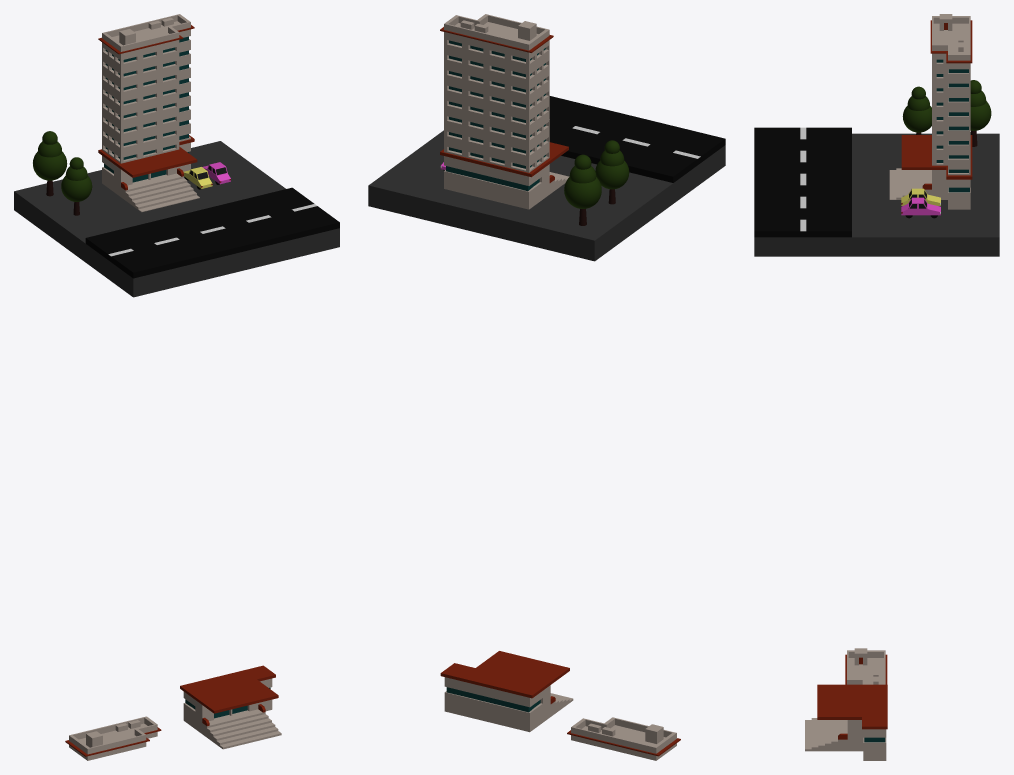
3 views of the same model, side by side, from view 1: azimuth 30°, elevation 25°; view 2: azimuth 150°, elevation 25°; view 3: azimuth 270°, elevation 25° (orthographic). The views are drawn at different scales.
Parts seen in each view (by area): view 1: Floor_큐브.015, Building_큐브.003, Building_floor_큐브.012, Building_floor_upper_큐브.013, tree_실린더; view 2: Floor_큐브.015, Building_큐브.003, Building_floor_큐브.012, Building_floor_upper_큐브.013, tree_실린더; view 3: Floor_큐브.015, Building_큐브.003, Building_floor_큐브.012, tree_실린더, Building_floor_upper_큐브.013, car.001_큐브.018.
Boxes of the visible parts, x1,y1,x2,y2 form: Floor_큐브.015: (14,141,339,297); Building_큐브.003: (98,14,199,212); Building_floor_큐브.012: (180,665,281,749); Building_floor_upper_큐브.013: (65,716,161,760); tree_실린더: (33,131,92,215); Floor_큐브.015: (368,96,725,261); Building_큐브.003: (440,14,569,209); Building_floor_큐브.012: (440,651,573,732); Building_floor_upper_큐브.013: (567,717,680,760); tree_실린더: (564,140,629,225); Floor_큐브.015: (754,127,999,256); Building_큐브.003: (889,14,972,209); Building_floor_큐브.012: (805,684,887,760); tree_실린더: (902,80,991,146); Building_floor_upper_큐브.013: (845,648,887,684); car.001_큐브.018: (901,197,940,218).
Size of the model in its own units: 3.79 by 11.6 by 3.72.
